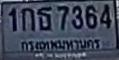1: (8, 7, 16, 31)
3: (71, 5, 82, 28)
4: (99, 3, 110, 28)
6: (85, 4, 96, 28)
7: (56, 5, 68, 29)
A01: (20, 7, 34, 30)
A24: (37, 6, 51, 30)
BKK: (18, 35, 104, 53)
